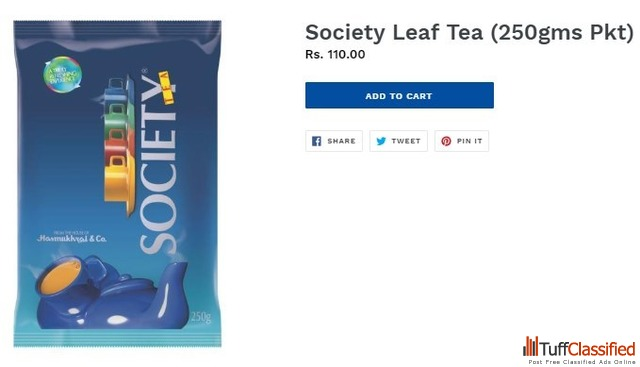society: (13, 20, 224, 350)
